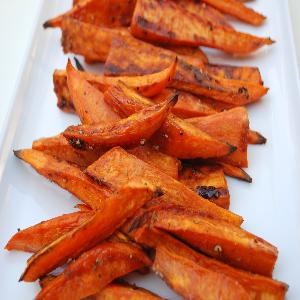fries_350cal: (14, 7, 300, 297)
